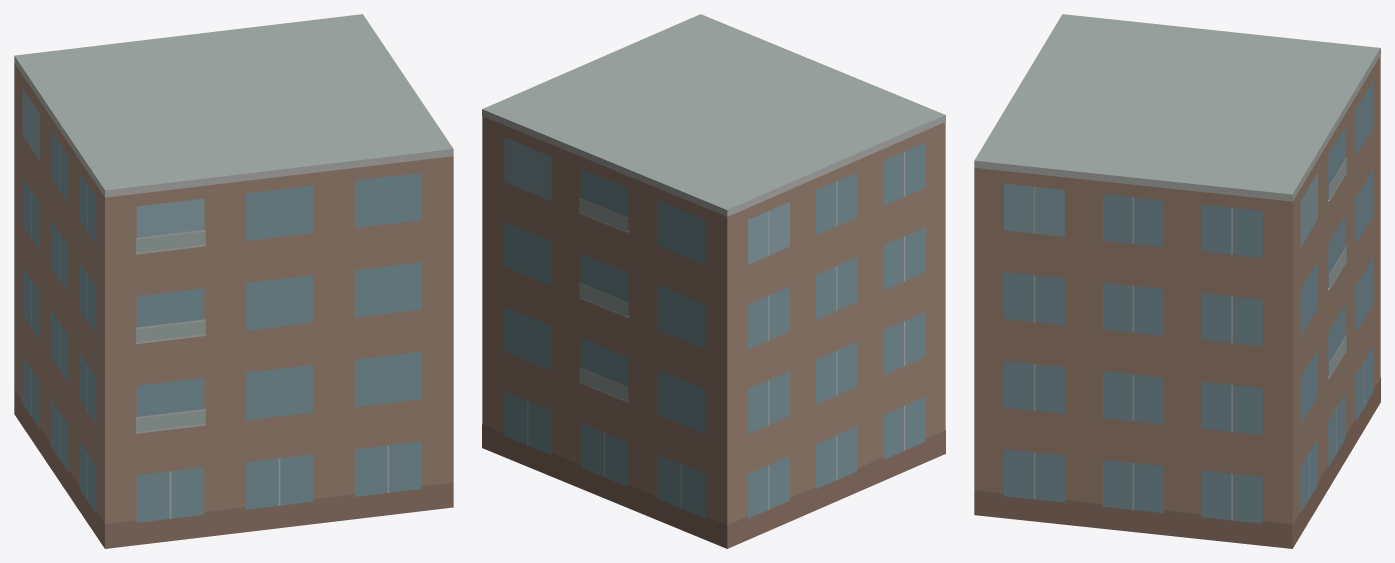
File: survey-upis-32821548.glb
3 renders of one model, left to right at view 1: azimuth 30°, elevation 25°; view 2: azimuth 150°, elevation 25°; view 3: azimuth 270°, elevation 25°, orthographic. The views are drawn at different scales.
Parts seen in each view (by area): view 1: survey-upis-32821548.tmp; view 2: survey-upis-32821548.tmp; view 3: survey-upis-32821548.tmp.
Part boxes in pixels (x1,y1,x2,y2): survey-upis-32821548.tmp: (14,14,453,548); survey-upis-32821548.tmp: (482,14,945,548); survey-upis-32821548.tmp: (974,14,1380,548).
Bounding box in the file's own units: 13.34 × 12.2 × 12.69.
